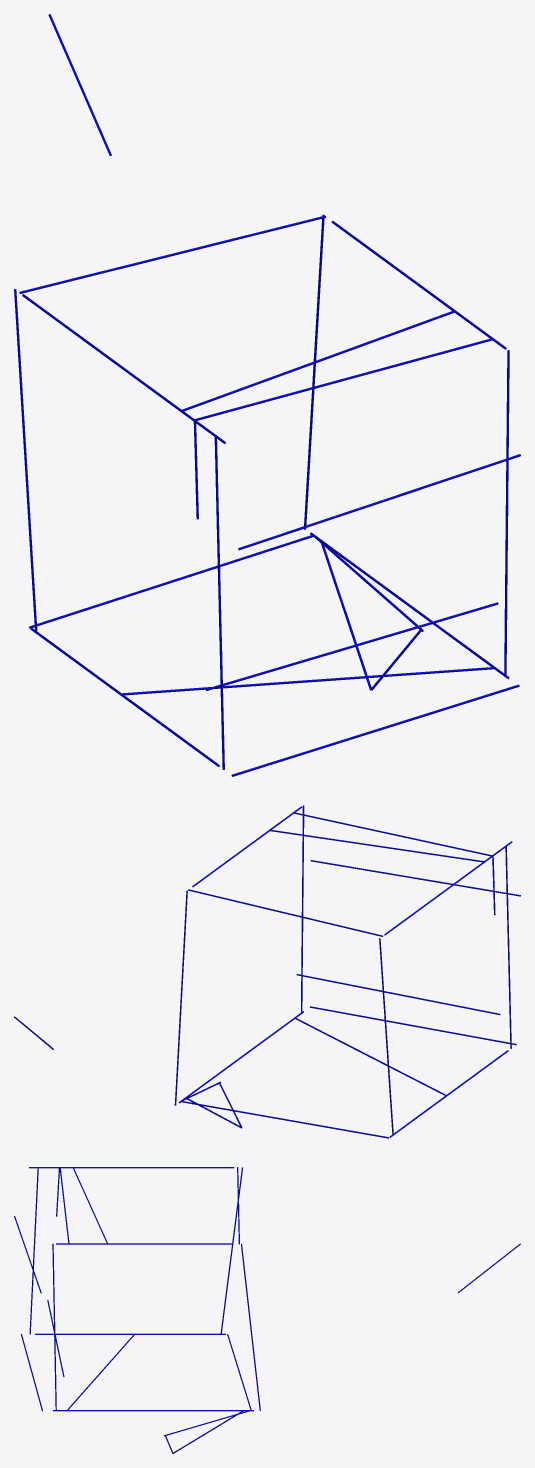
File: corrected_3d_strokes.glb
3 renders of one model, top to bottom at view 1: azimuth 30°, elevation 25°; view 2: azimuth 150°, elevation 25°; view 3: azimuth 270°, elevation 25°, orthographic. The views are drawn at different scales.
Visible parts, largest first — view 1: world; view 2: world; view 3: world.
Boxes of the visible parts, <box> form: world: <box>14,14,520,776</box>; world: <box>14,805,520,1138</box>; world: <box>14,1167,520,1453</box>.
Size of the model in its own units: 6.09 by 7.4 by 15.79.
